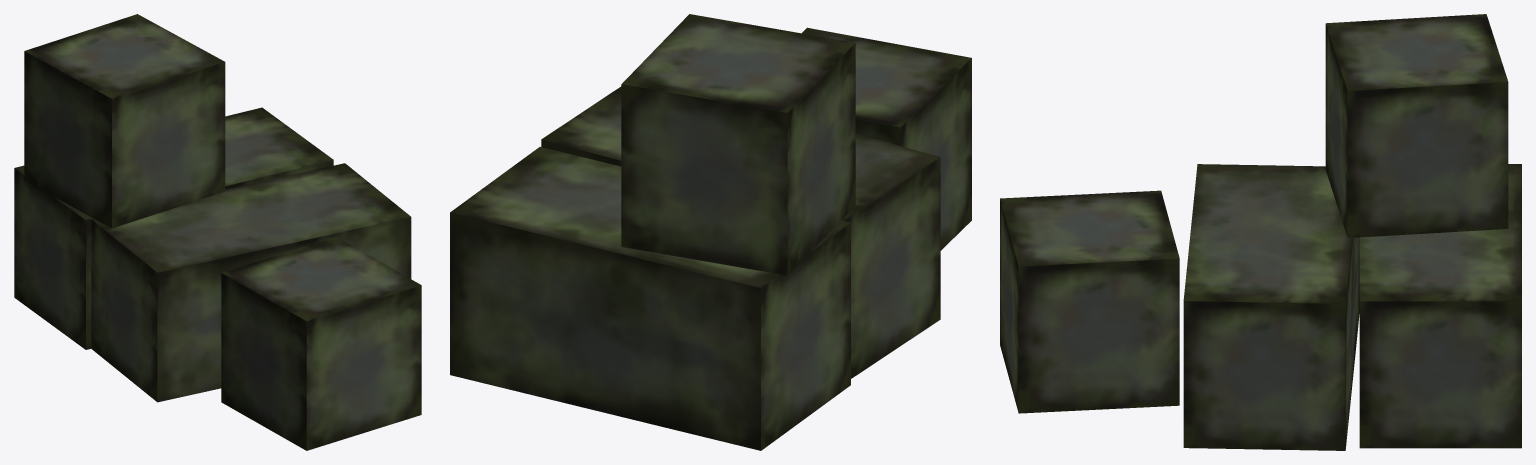
File: rubble-large-03.fbx
3 renders of one model, left to right at view 1: azimuth 30°, elevation 25°; view 2: azimuth 150°, elevation 25°; view 3: azimuth 270°, elevation 25°, orthographic. The views are drawn at different scales.
Parts seen in each view (by area): view 1: rubble_large_3; view 2: rubble_large_3; view 3: rubble_large_3.
Part boxes in pixels (box(x1,y1,x2,y2)): rubble_large_3: box(14, 14, 421, 450); rubble_large_3: box(450, 14, 971, 450); rubble_large_3: box(1000, 14, 1521, 450).
Bounding box in the file's own units: 209 × 200 × 322.
